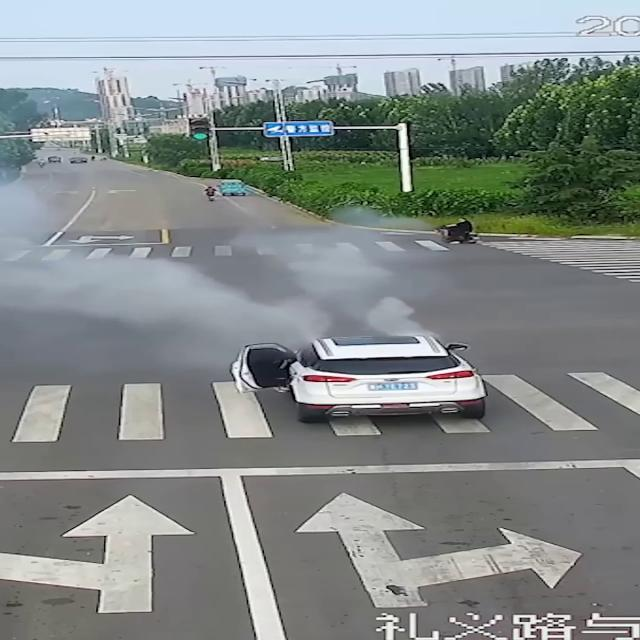Smoke: (201, 202, 447, 348)
